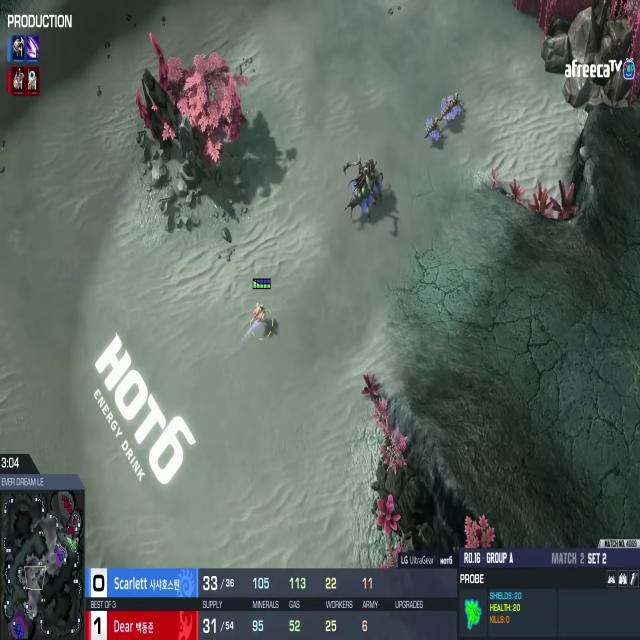drone: (422, 113, 445, 148), (446, 89, 465, 123), (438, 92, 454, 126)
probe: (248, 296, 270, 335)
queen: (342, 150, 388, 230)
